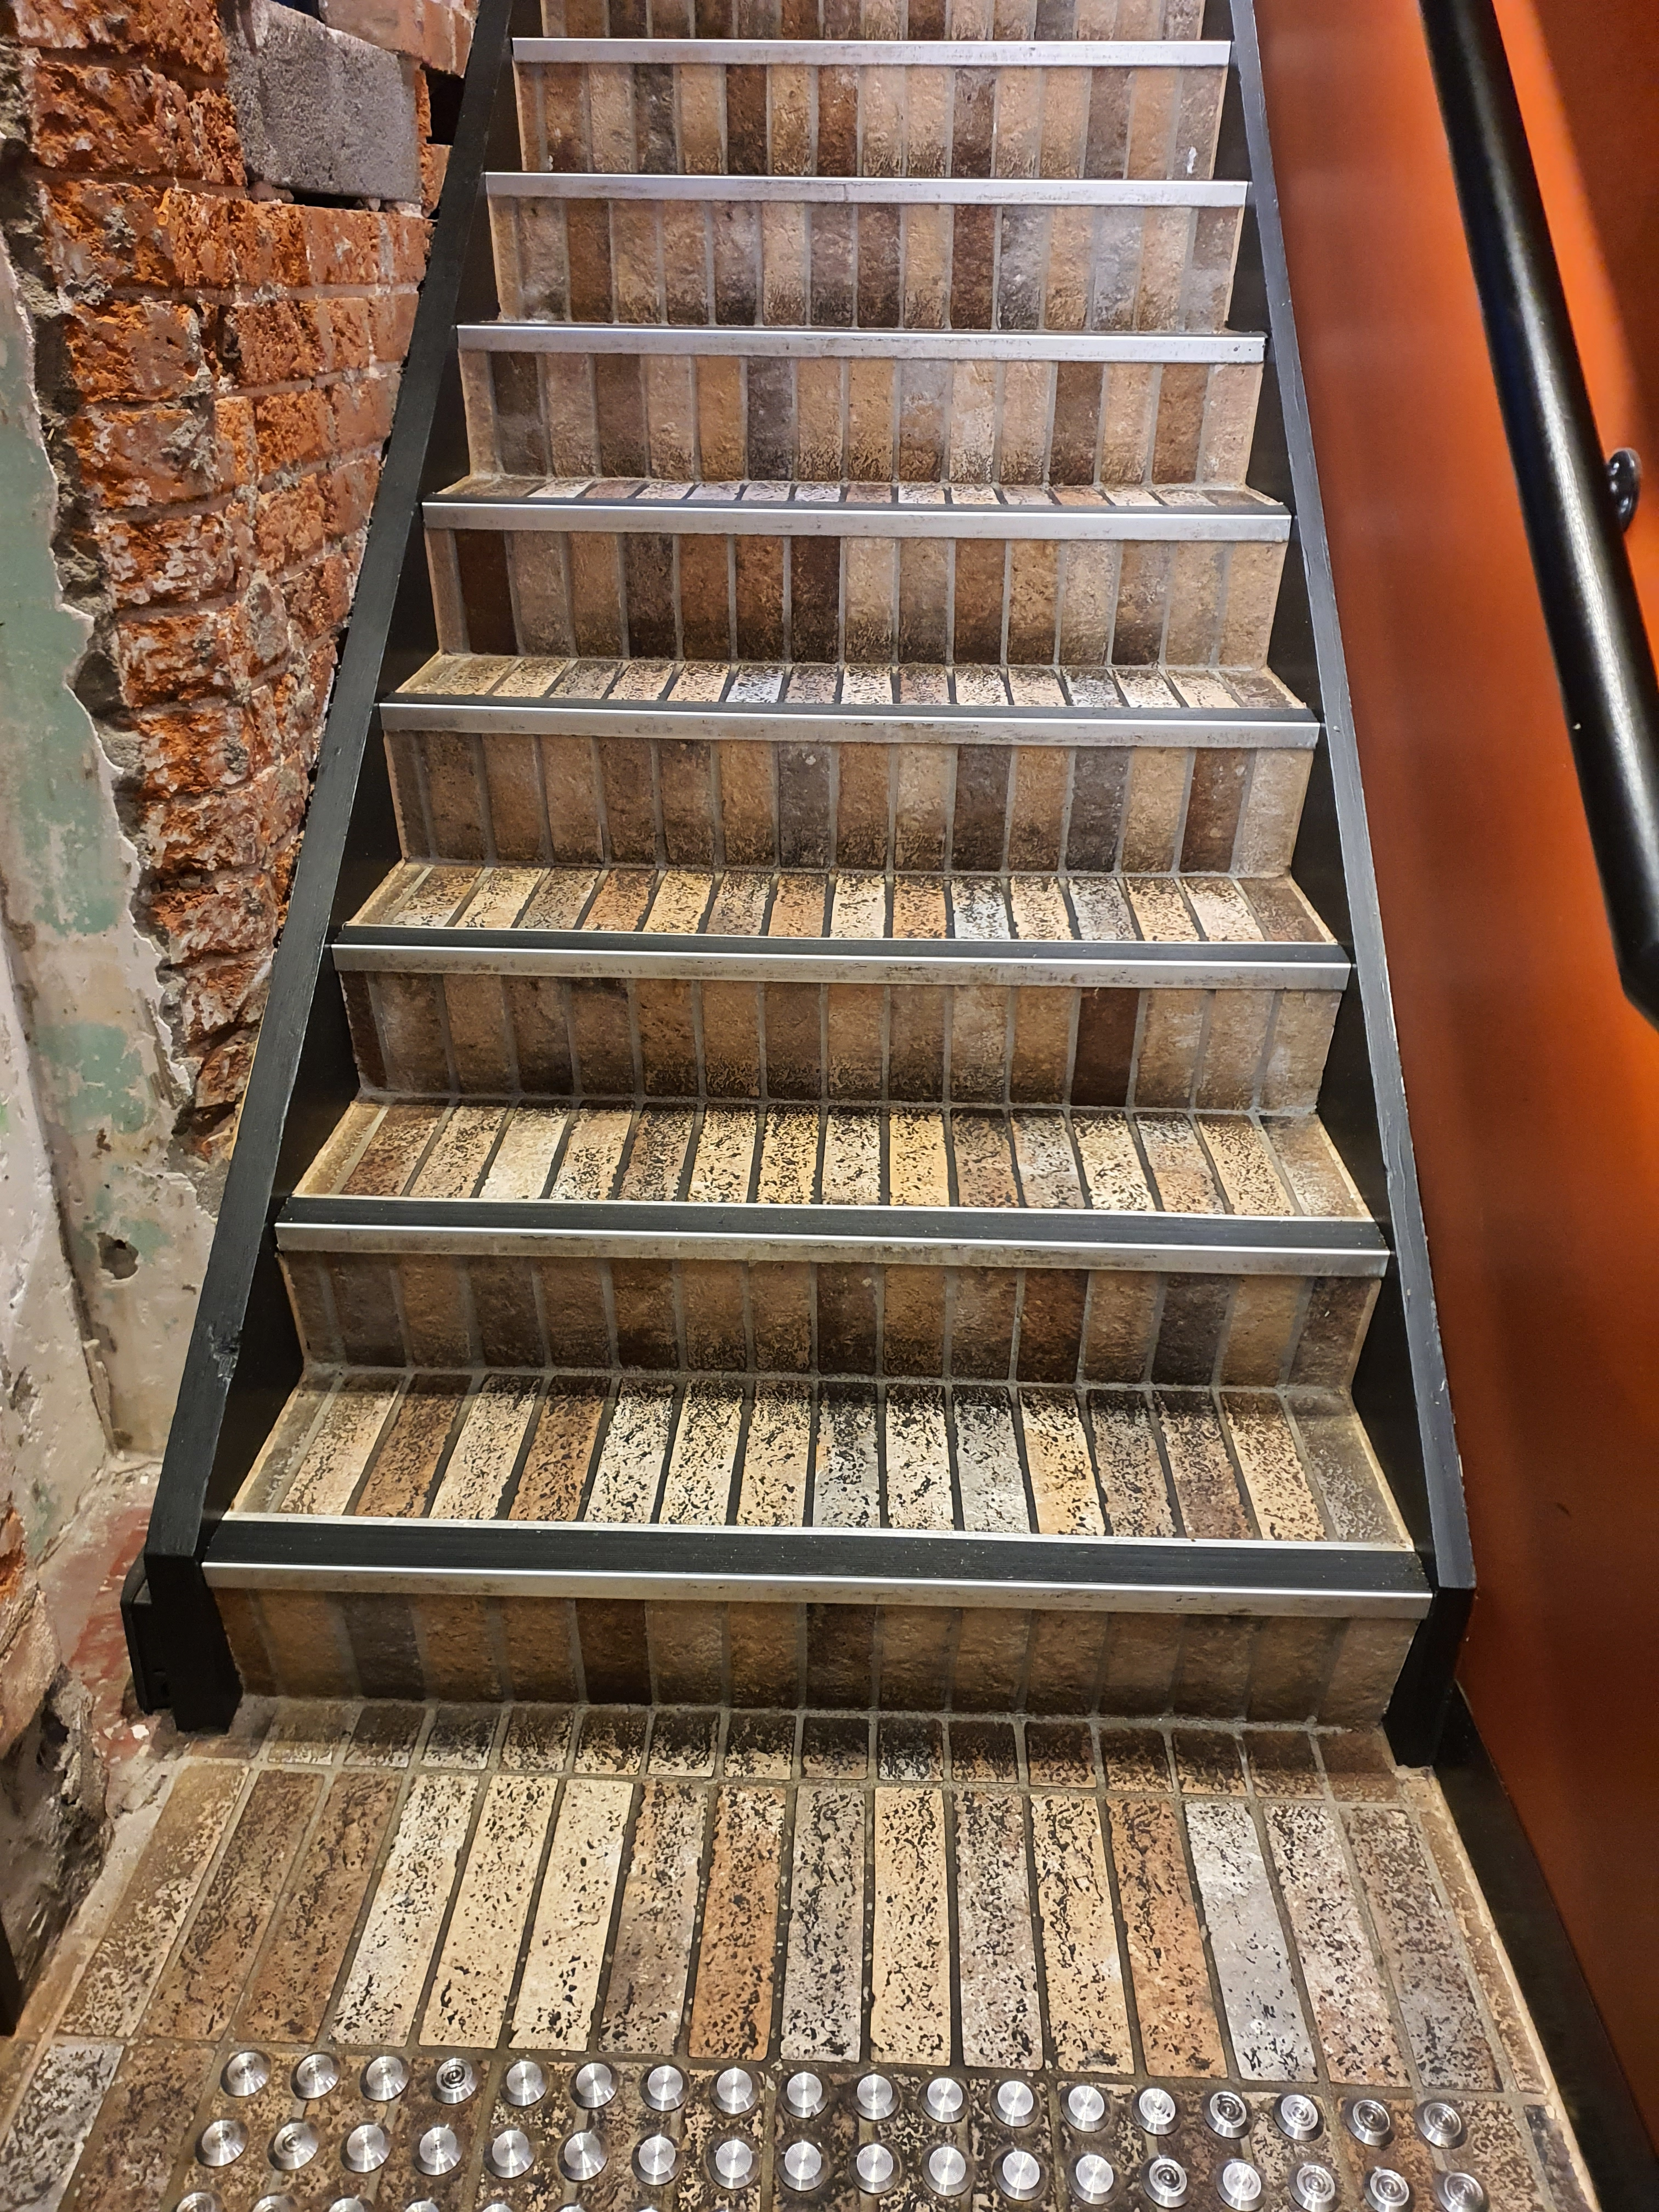upstairs: (359, 617, 1295, 1918)
